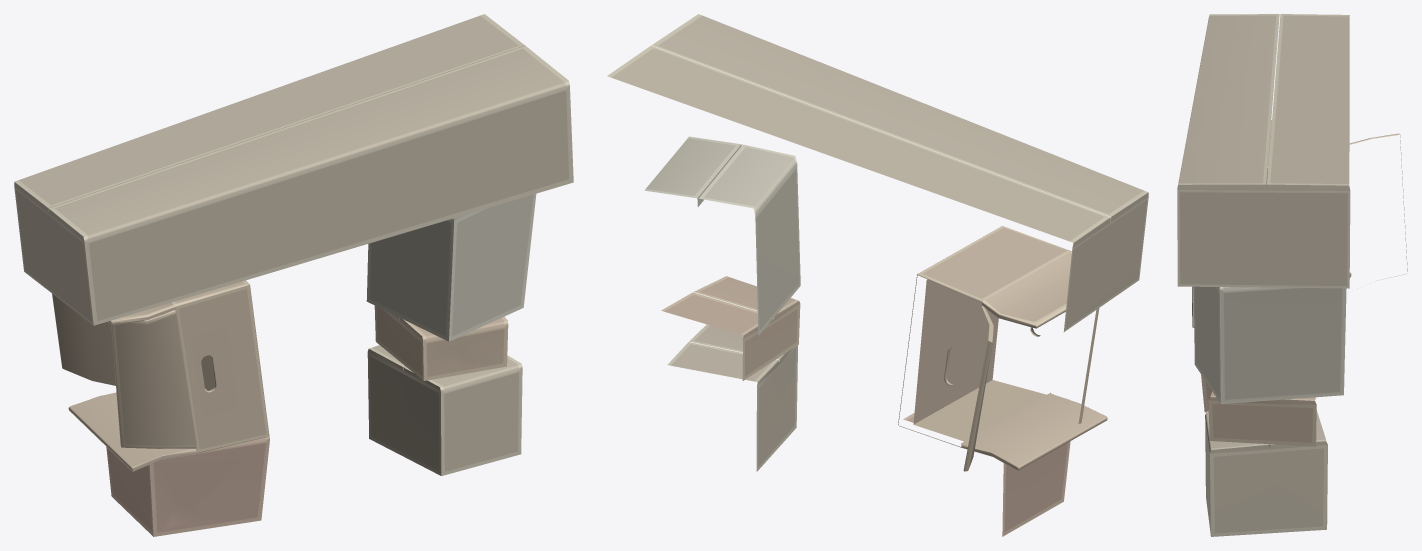
3 renders of one model, left to right at view 1: azimuth 30°, elevation 25°; view 2: azimuth 150°, elevation 25°; view 3: azimuth 270°, elevation 25°, orthographic. The views are drawn at different scales.
Visible parts, largest first — view 1: Box; view 2: Box; view 3: Box.
Part boxes in pixels (left/top/right/bottom): Box: left=14, top=14, right=573, bottom=536; Box: left=607, top=14, right=1148, bottom=536; Box: left=1177, top=14, right=1407, bottom=536.
Size of the model in its own units: 4.15 by 3.15 by 1.79.
